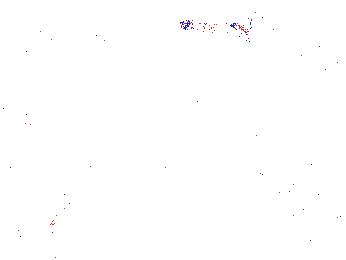X-ray fish: (9, 21, 58, 71)
glassfish: (120, 137, 234, 208)
redtail glassfish: (276, 33, 346, 60), (176, 18, 249, 37), (257, 2, 291, 32)
